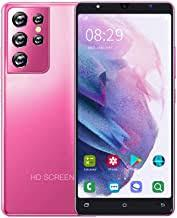Smartphone: (82, 0, 172, 213), (3, 3, 81, 214)
